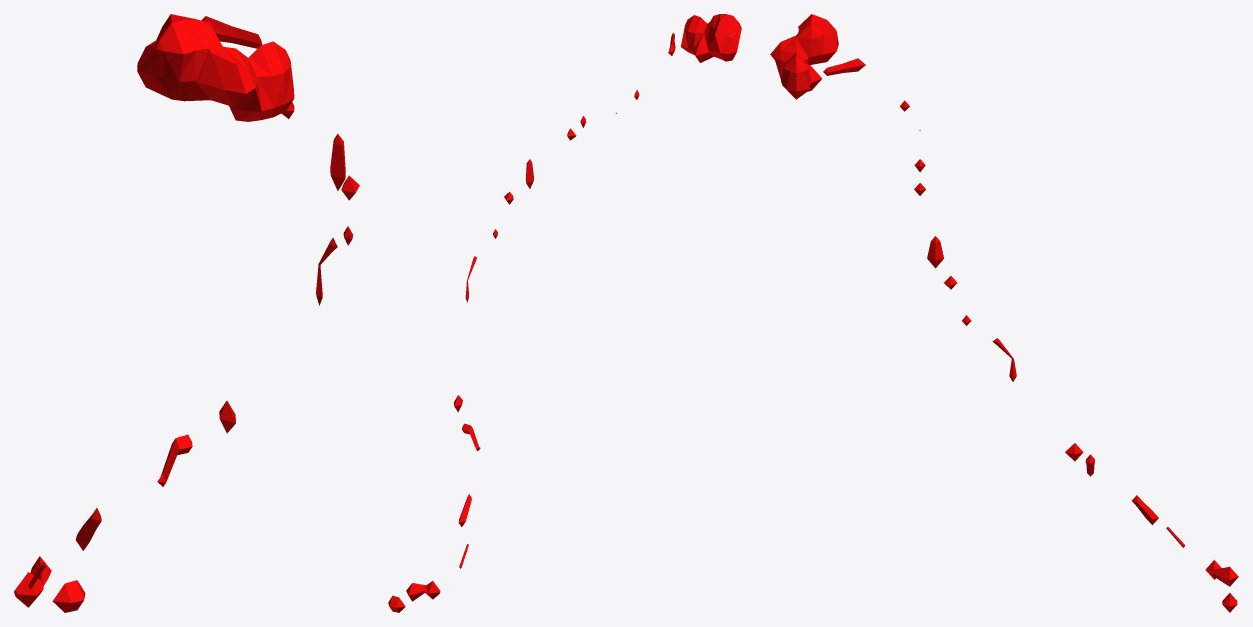
File: dnaX_coarse.dae
3 renders of one model, left to right at view 1: azimuth 30°, elevation 25°; view 2: azimuth 150°, elevation 25°; view 3: azimuth 270°, elevation 25°, orthographic. The views are drawn at different scales.
Visible parts, largest first — view 1: dnaX; view 2: dnaX; view 3: dnaX.
Boxes of the visible parts, x1,y1,x2,y2 form: dnaX: (14, 14, 359, 612); dnaX: (388, 14, 741, 612); dnaX: (770, 14, 1238, 612).
Bounding box in the file's own units: 211 × 534 × 434.
